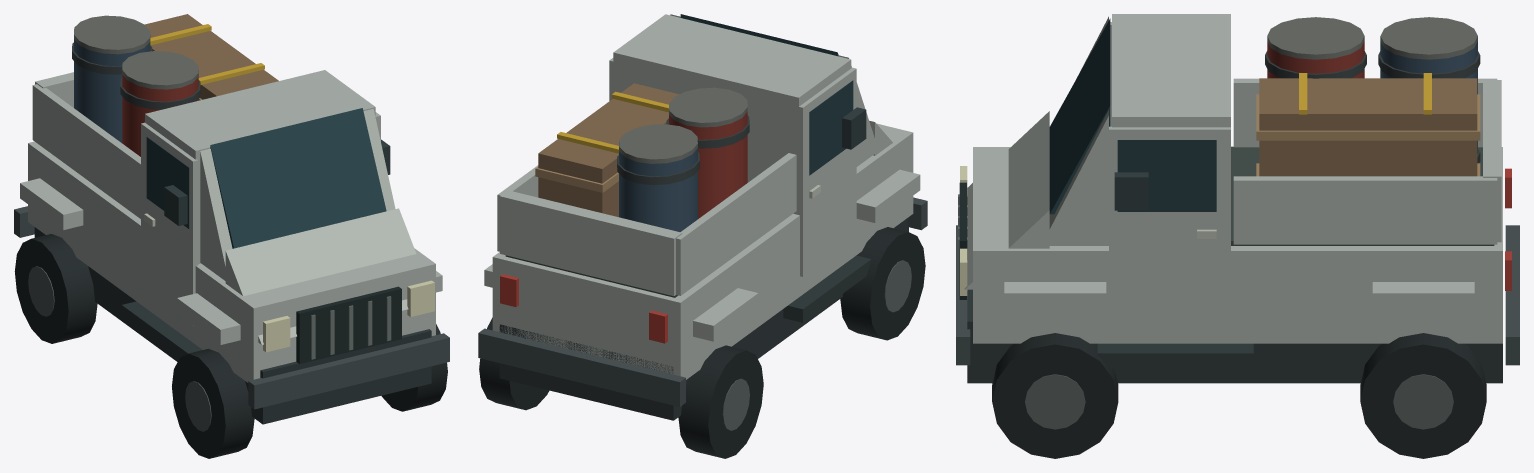
Rendered from CMU3DReduxAU14VehicleCivCivTruck3.glb.
3 views of the same model, side by side, from view 1: azimuth 30°, elevation 25°; view 2: azimuth 150°, elevation 25°; view 3: azimuth 270°, elevation 25° (orthographic). The views are drawn at different scales.
Visible parts, largest first — view 1: lower vehicle body, windshield, rubber road tire (×3), cab bulkhead, front hood, bed side wall, bumper (×2), cab door skin, sealed chassis, cargo drum (×2), drum lid (×2), front grille (+11 smaller); view 2: lower vehicle body, cab bulkhead, rubber road tire (×3), tailgate, bed side wall (×2), cargo drum (×2), wooden cargo crate, cab door skin, bumper (×2), sealed chassis, drum lid (×2), wheel fender (×2) (+10 smaller); view 3: lower vehicle body, rubber road tire (×2), bed side wall (×2), wooden cargo crate, cab door skin, cab bulkhead, sealed chassis, drum lid (×2), wheel fender (×2), side window, windshield, front hood (+11 smaller).
Boxes of the visible parts, bbox=[...] form: lower vehicle body: bbox=[28, 141, 435, 382]; windshield: bbox=[210, 108, 386, 248]; rubber road tire (×3): bbox=[14, 234, 447, 458]; cab bulkhead: bbox=[145, 70, 375, 263]; front hood: bbox=[225, 208, 416, 344]; bed side wall: bbox=[32, 84, 140, 218]; bumper (×2): bbox=[14, 206, 449, 409]; cab door skin: bbox=[141, 122, 198, 325]; sealed chassis: bbox=[34, 227, 431, 424]; cargo drum (×2): bbox=[74, 39, 198, 156]; drum lid (×2): bbox=[74, 15, 198, 89]; front grille: bbox=[296, 286, 401, 363]; lower vehicle body: bbox=[492, 123, 913, 379]; cab bulkhead: bbox=[613, 14, 851, 214]; rubber road tire (×3): bbox=[479, 227, 925, 458]; tailgate: bbox=[500, 190, 682, 296]; bed side wall (×2): bbox=[497, 153, 796, 295]; cargo drum (×2): bbox=[619, 112, 747, 231]; wooden cargo crate: bbox=[538, 83, 679, 217]; cab door skin: bbox=[797, 67, 856, 276]; bumper (×2): bbox=[478, 197, 927, 406]; sealed chassis: bbox=[499, 218, 908, 420]; drum lid (×2): bbox=[619, 87, 747, 163]; wheel fender (×2): bbox=[693, 169, 920, 341]; lower vehicle body: bbox=[973, 147, 1502, 343]; rubber road tire (×2): bbox=[992, 333, 1486, 458]; bed side wall (×2): bbox=[1233, 78, 1497, 244]; wooden cargo crate: bbox=[1259, 78, 1477, 176]; cab door skin: bbox=[1109, 126, 1230, 321]; cab bulkhead: bbox=[1112, 14, 1230, 127]; sealed chassis: bbox=[967, 289, 1502, 383]; drum lid (×2): bbox=[1267, 17, 1477, 59]; wheel fender (×2): bbox=[1004, 282, 1474, 311]; side window: bbox=[1117, 140, 1216, 211]; windshield: bbox=[1049, 18, 1110, 214]; front hood: bbox=[964, 111, 1049, 289].
Size of the model in its own units: 1.07 by 1.31 by 1.99.
